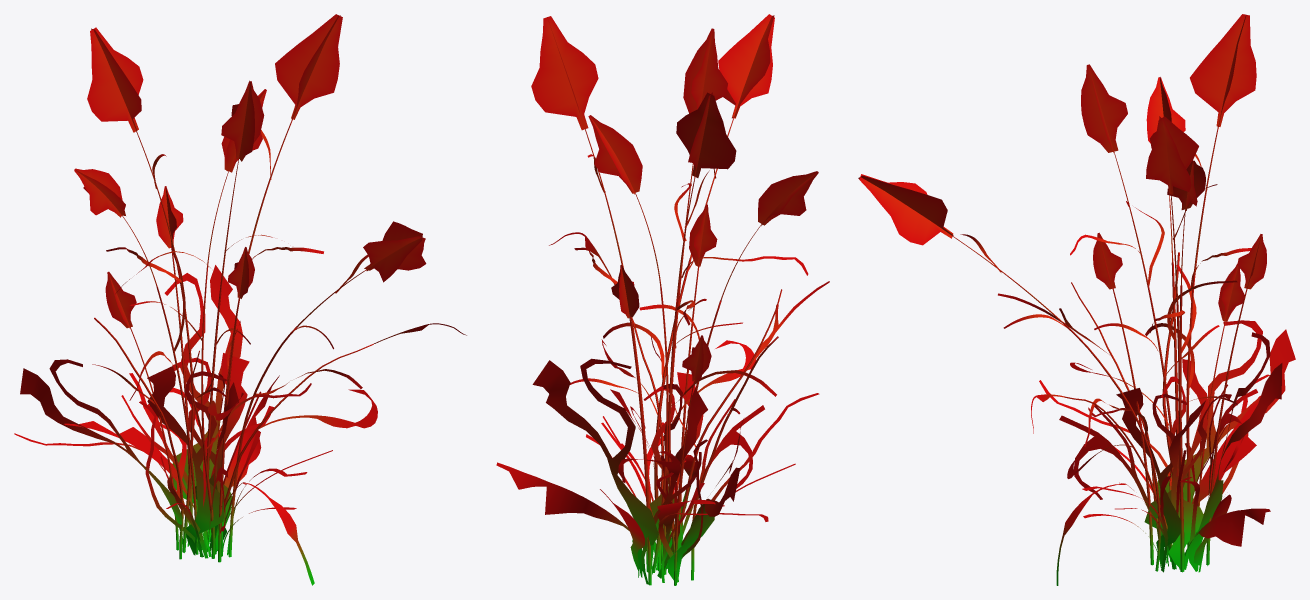
File: skljc_Var2_LOD0.fbx
The picture shows the model from 3 angles, left to right: view 1: azimuth 30°, elevation 25°; view 2: azimuth 150°, elevation 25°; view 3: azimuth 270°, elevation 25°; orthographic projection. The views are drawn at different scales.
Parts seen in each view (by area): view 1: _7abc_Var2_LOD0; view 2: _7abc_Var2_LOD0; view 3: _7abc_Var2_LOD0.
Boxes of the visible parts, <box> form: _7abc_Var2_LOD0: <box>14,14,466,585</box>; _7abc_Var2_LOD0: <box>496,14,829,585</box>; _7abc_Var2_LOD0: <box>858,14,1295,585</box>.
Size of the model in its own units: 80.41 by 119 by 91.98.
